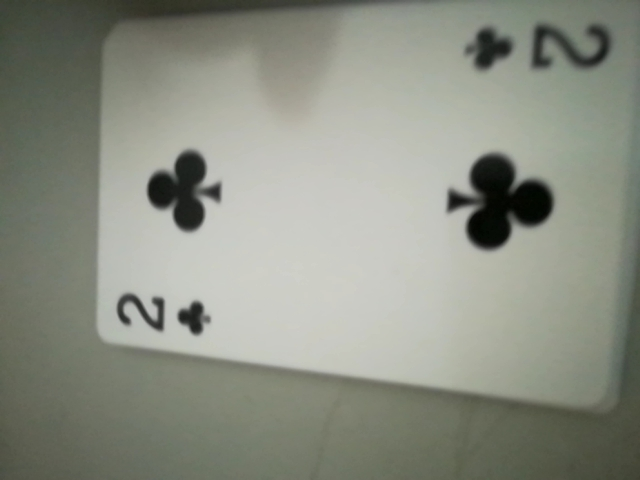mh 2: (463, 13, 624, 88), (110, 284, 225, 344)
